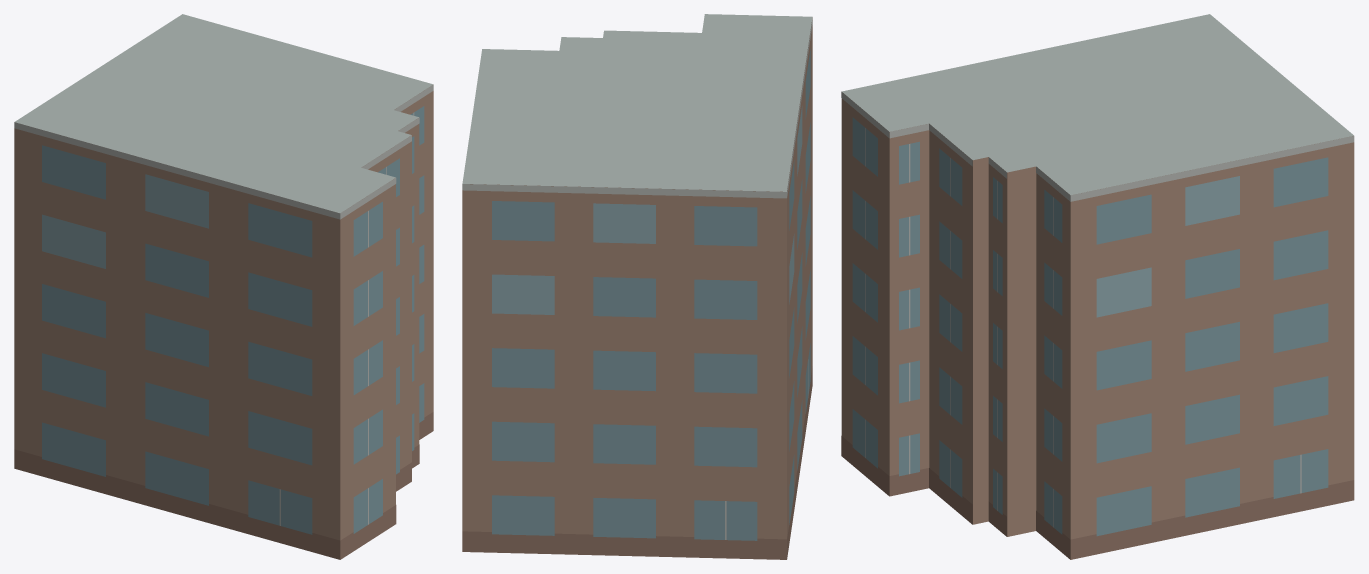
The model's file is survey-upis-32654350.glb.
The picture shows the model from 3 angles, left to right: view 1: azimuth 30°, elevation 25°; view 2: azimuth 150°, elevation 25°; view 3: azimuth 270°, elevation 25°; orthographic projection. The views are drawn at different scales.
Visible parts, largest first — view 1: survey-upis-32654350.tmp; view 2: survey-upis-32654350.tmp; view 3: survey-upis-32654350.tmp.
Part boxes in pixels (<box>): survey-upis-32654350.tmp: <box>14,14,433,559</box>; survey-upis-32654350.tmp: <box>462,14,812,559</box>; survey-upis-32654350.tmp: <box>841,14,1354,559</box>.
Size of the model in its own units: 14.51 by 13.6 by 17.35.
